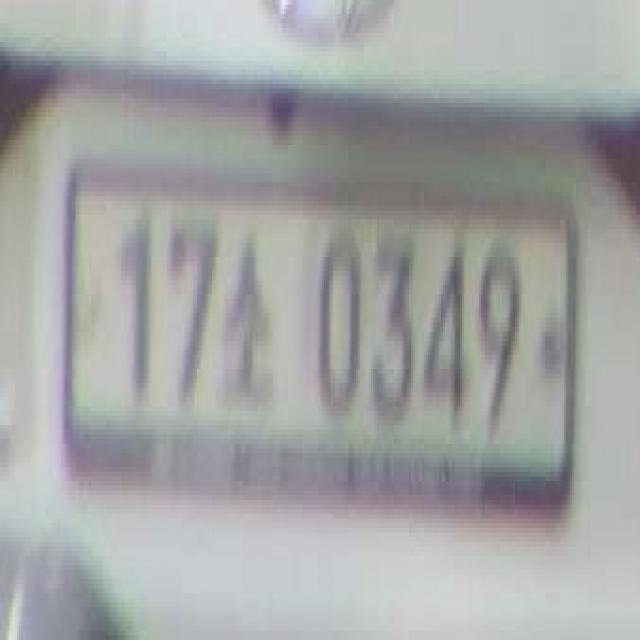0: (314, 220, 364, 420)
1: (114, 206, 159, 416)
3: (367, 220, 415, 425)
4: (422, 220, 472, 430)
7: (165, 201, 216, 416)
9: (475, 220, 523, 439)
license_plate: (53, 154, 579, 523)
so: (218, 206, 276, 416)
